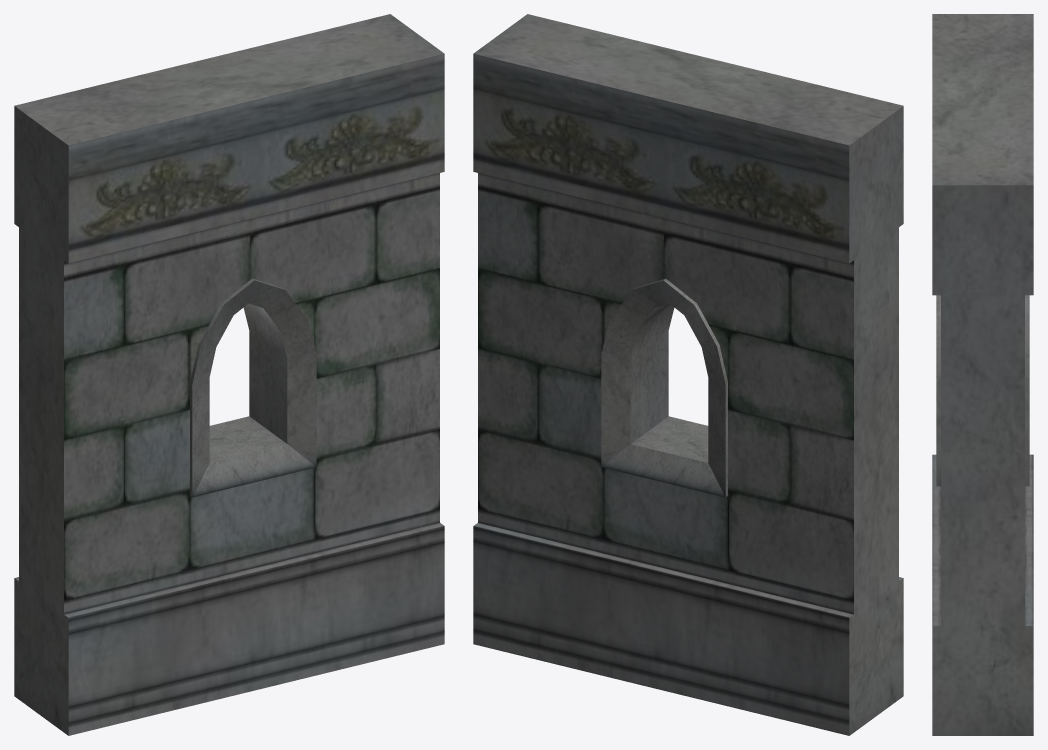
File: wall_small_02.glb
3 renders of one model, left to right at view 1: azimuth 30°, elevation 25°; view 2: azimuth 150°, elevation 25°; view 3: azimuth 270°, elevation 25°, orthographic. The views are drawn at different scales.
Parts seen in each view (by area): view 1: wall_small_02; view 2: wall_small_02; view 3: wall_small_02.
Part boxes in pixels (x1,y1,x2,y2): wall_small_02: [14, 14, 444, 735]; wall_small_02: [473, 14, 903, 735]; wall_small_02: [932, 14, 1033, 735].
Bounding box in the file's own units: 2 × 3 × 0.5.
1 material, 1 textured.
